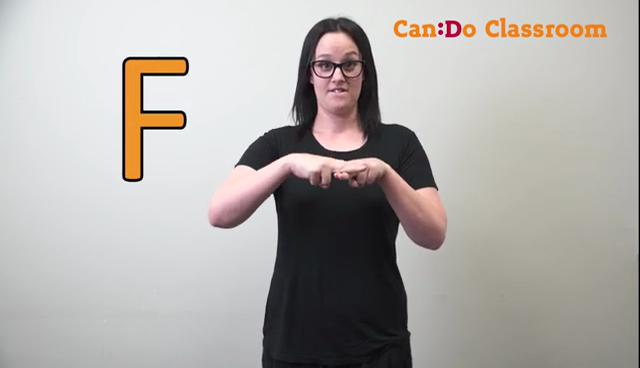F: (269, 136, 400, 204)
